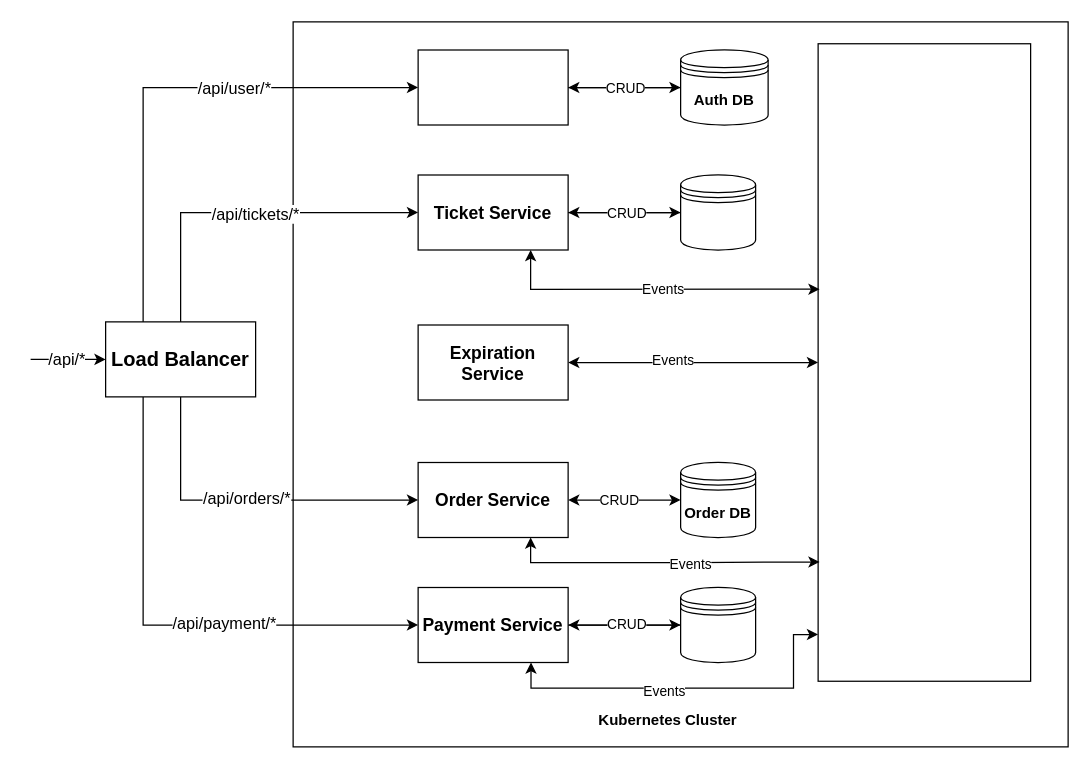
Image size: 1090x769. Some labels were removed from this diagram. The box of each missing label's shape, as (x1, y1, x2, y2) in pixels:
Auth Service: (417, 49, 568, 125)
NATS JetStream (Event-Bus): (817, 42, 1031, 681)
Payment DB: (679, 586, 756, 662)
Ticket DB: (679, 174, 756, 250)
